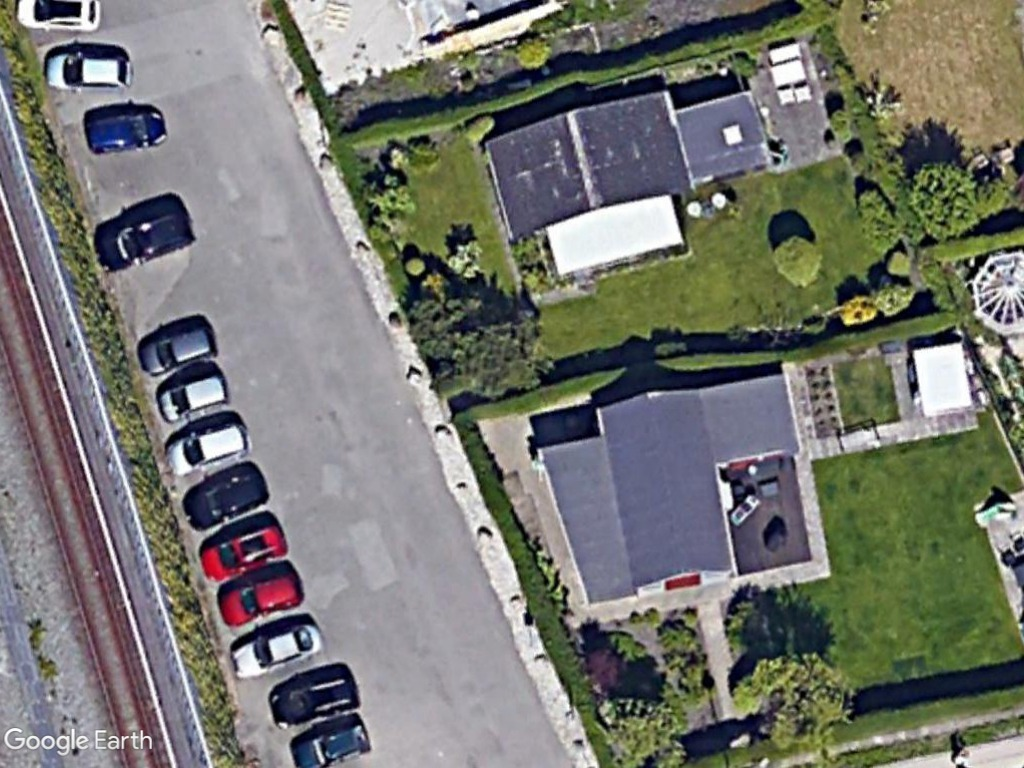car: (220, 610, 326, 684), (266, 662, 364, 738), (177, 459, 275, 534), (195, 514, 292, 587), (212, 562, 311, 632), (98, 207, 199, 271), (161, 415, 256, 482), (285, 710, 376, 768), (38, 43, 141, 92), (133, 320, 219, 378), (151, 363, 234, 423), (81, 106, 169, 158)
